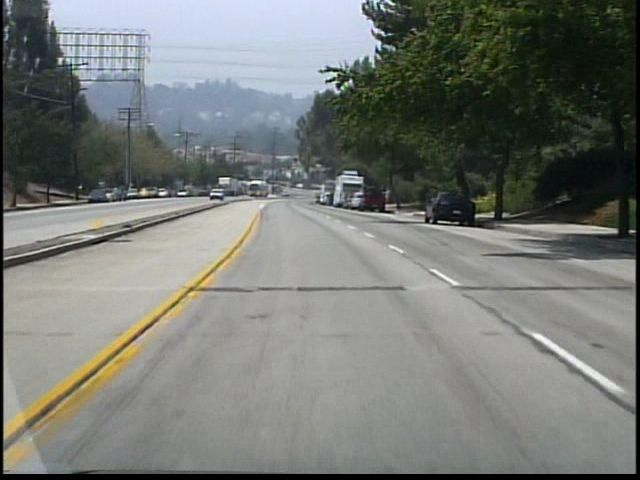person: (382, 183, 394, 209)
